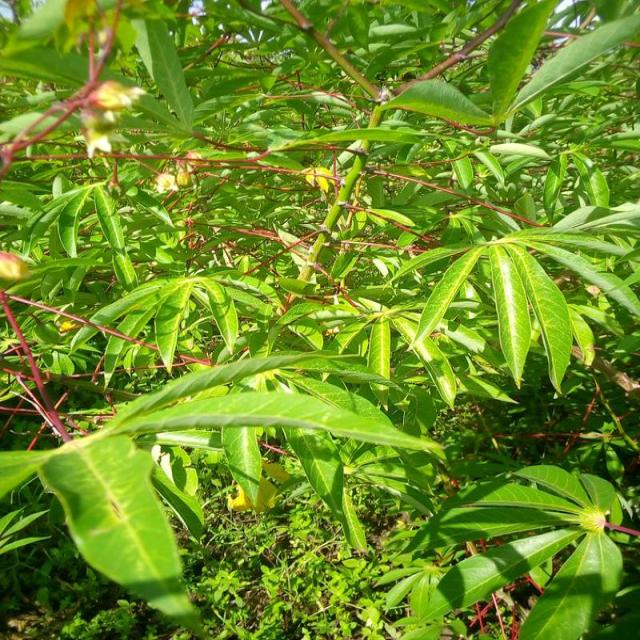cassava leaf: (0, 1, 638, 636), (36, 431, 202, 627)
